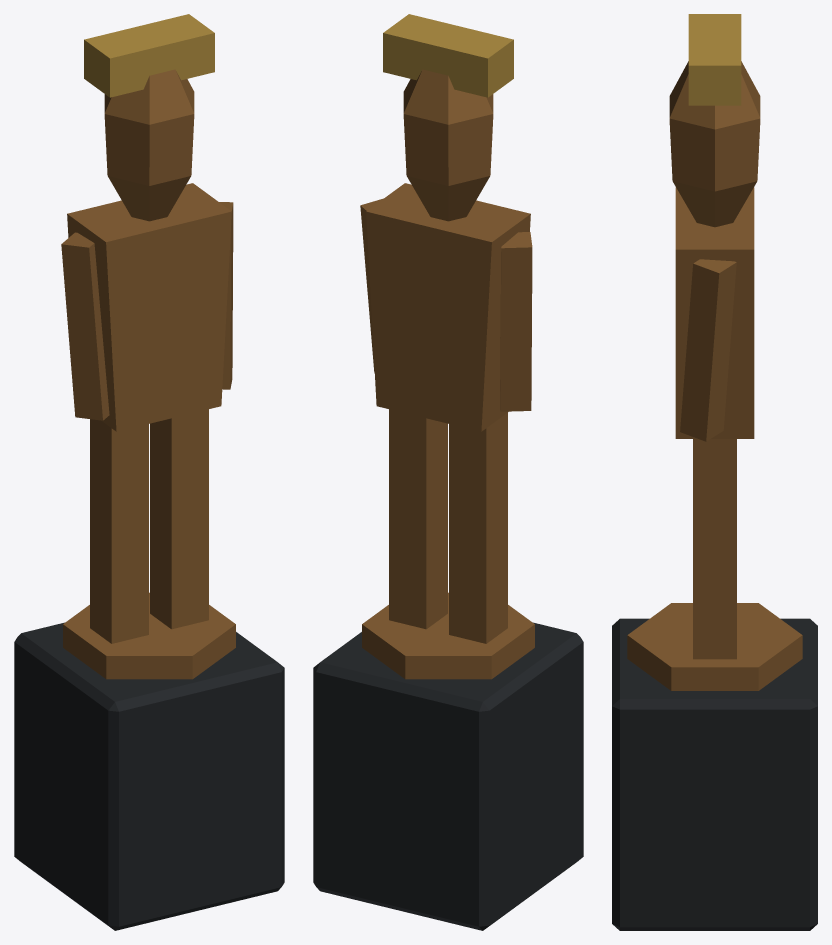
Rendered from sculpture-18.glb.
The picture shows the model from 3 angles, left to right: view 1: azimuth 30°, elevation 25°; view 2: azimuth 150°, elevation 25°; view 3: azimuth 270°, elevation 25°; orthographic projection.
Visible parts, largest first — view 1: sculpture_18; view 2: sculpture_18; view 3: sculpture_18.
Boxes of the visible parts, x1,y1,x2,y2 form: sculpture_18: (14,14,284,930); sculpture_18: (313,14,583,930); sculpture_18: (612,14,817,930).
Size of the model in its own units: 0.157 by 0.7156 by 0.157.
